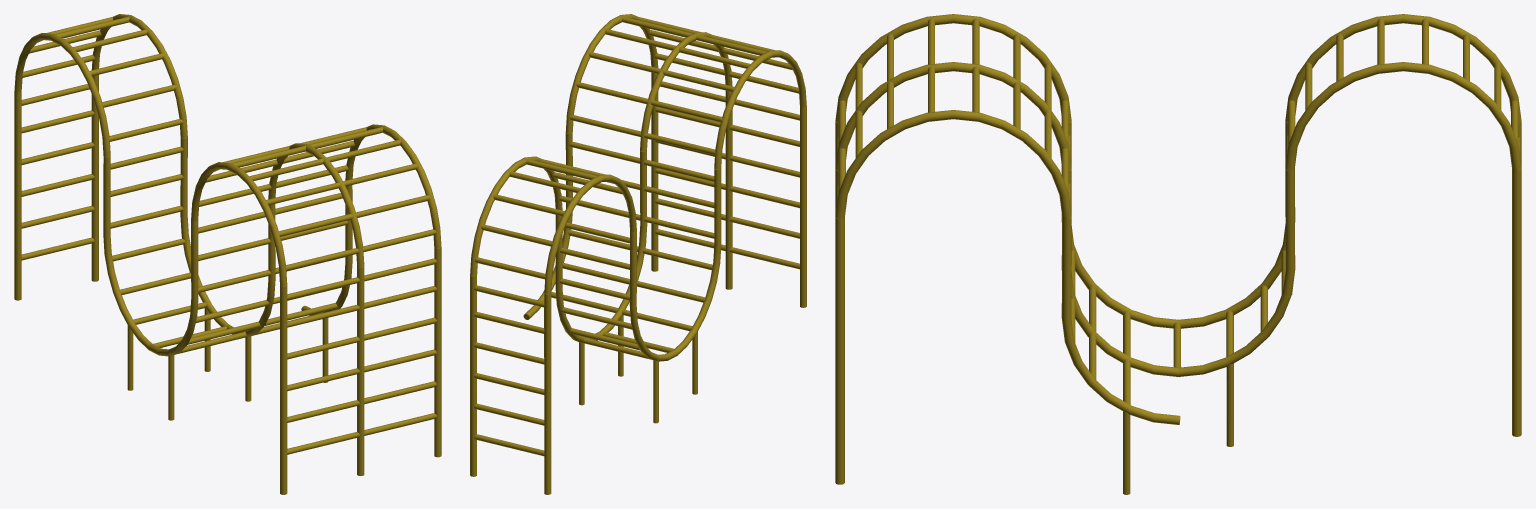
The model's file is 金属架.fbx.
3 renders of one model, left to right at view 1: azimuth 30°, elevation 25°; view 2: azimuth 150°, elevation 25°; view 3: azimuth 270°, elevation 25°, orthographic. The views are drawn at different scales.
Parts seen in each view (by area): view 1: Cylinder013; view 2: Cylinder013; view 3: Cylinder013.
Part boxes in pixels (left/top/right/bottom): Cylinder013: left=14, top=14, right=441, bottom=494; Cylinder013: left=470, top=14, right=806, bottom=494; Cylinder013: left=835, top=14, right=1521, bottom=494.
Size of the model in its own units: 49.12 by 88.01 by 143.
